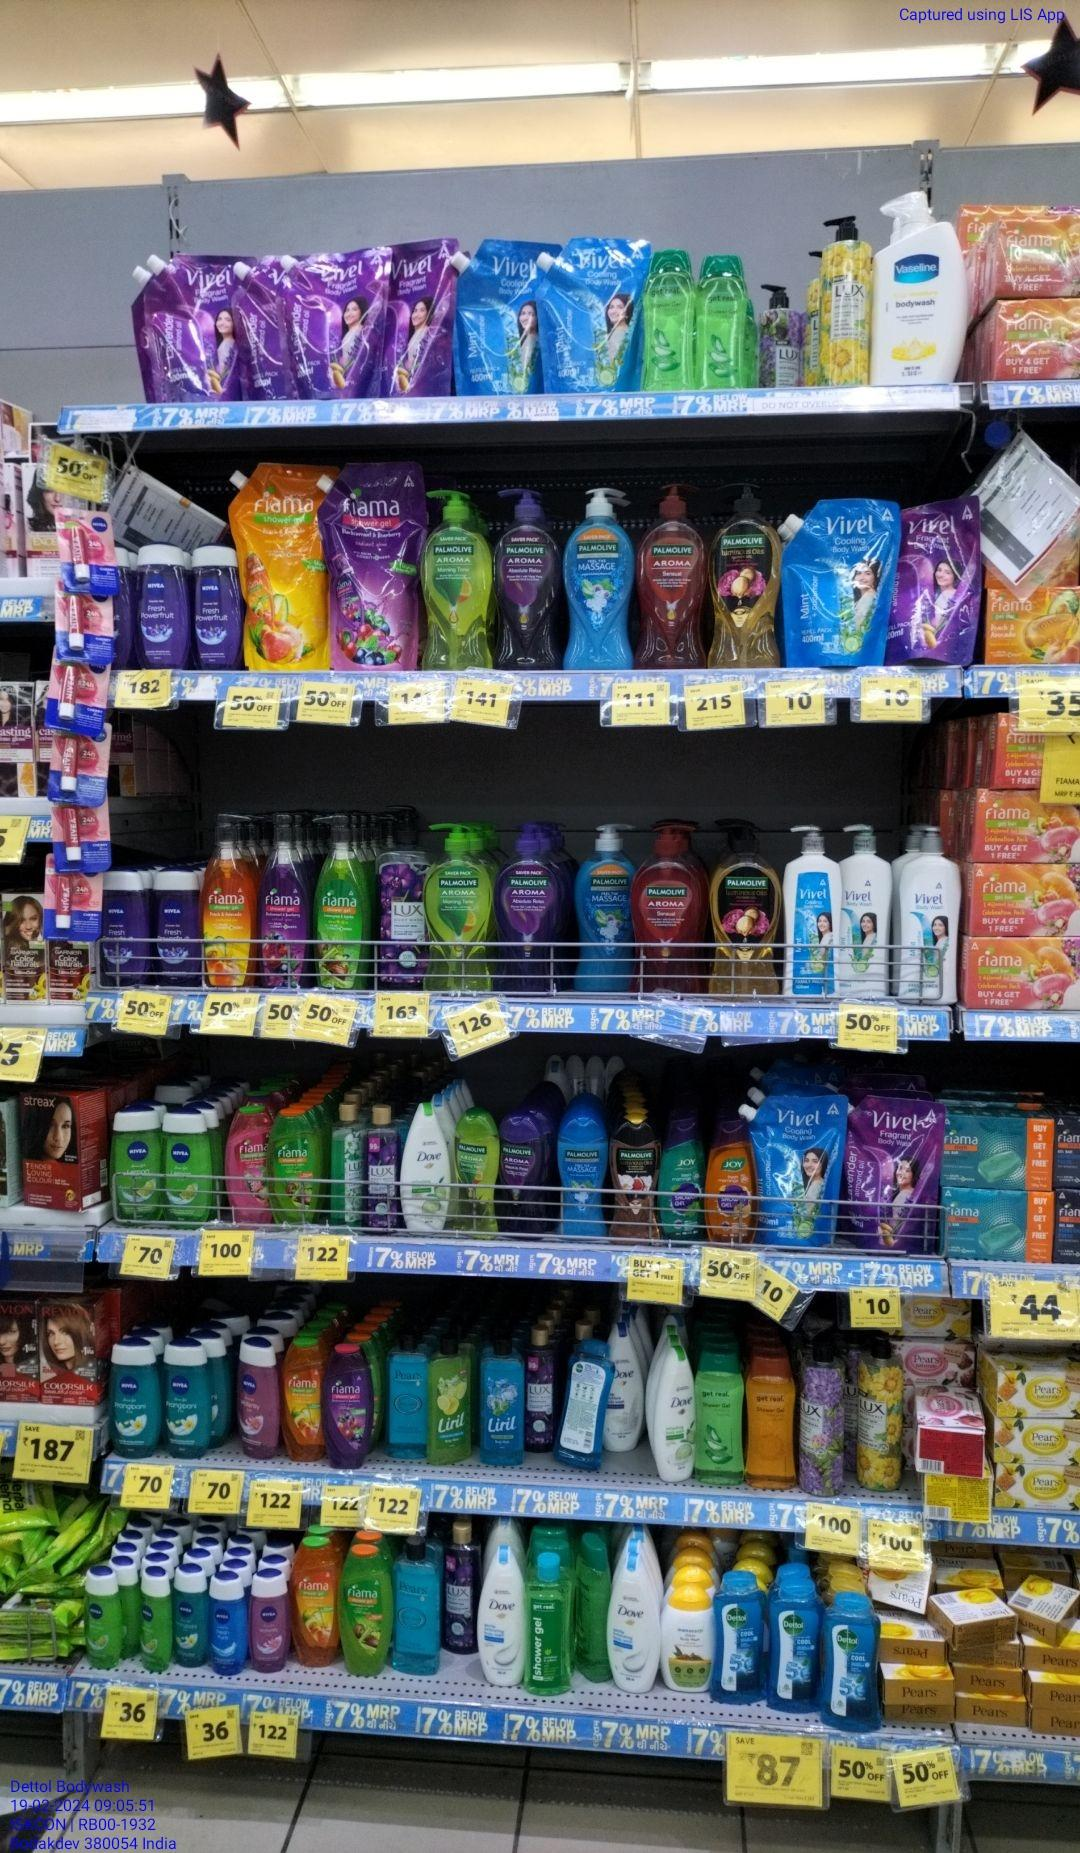Dettol_Bodywash_Cool: (823, 1592, 881, 1732), (711, 1570, 766, 1703), (769, 1581, 822, 1712)
Dove_Gentle_Exfoliating_Body_Wash_250ML: (607, 1554, 661, 1691), (481, 1545, 525, 1686)
Dove_Refreshing_Body_Wash_250ML: (400, 1103, 450, 1236)
Fiama_Shower_Gel_Lemongrass_and_Jojoba_250ML: (341, 1542, 391, 1674), (273, 1108, 321, 1223)
Fiama_Shower_Gel_Patchouli_and_Macadamia_250ML: (226, 1106, 270, 1227)
Fiama_Shower_Gel_Peach_and_Avocado_250ML: (282, 1338, 324, 1461)
Get_Real_Shower_Gel_Moisturising_Glycerin_300ML: (746, 1356, 798, 1493), (291, 1537, 337, 1668)
Joy_Shower_Gel_Mandarin_and_Lemongrass_250ML: (705, 1122, 756, 1244)
Joy_Shower_Gel_Mint_and_Eucalyptus_250ML: (663, 1119, 702, 1240)
Liril_Cooling_Mint_Body_Wash_250ML: (478, 1340, 525, 1470)
Liril_Lime_and_Tea_Tree_Oil_Body_Wash_250ML: (428, 1336, 476, 1467)
Lux_Black_Orchid_Scent_and_Juniper_Oil_Body_Wash_245ML: (444, 1515, 477, 1654), (365, 1104, 399, 1232), (528, 1325, 552, 1450)
Lux_Body_Wash_Skin_Detox_Freesia_Scent_and_Alove_Vera_245ML: (328, 1103, 361, 1223)
Nivea_Shower_Gel_Frangipani_and_Oil_250ML: (109, 1339, 162, 1458), (165, 1339, 213, 1460)
Nivea_Shower_Gel_Fresh_Powerfruit_250ML: (135, 541, 192, 669), (194, 545, 239, 669), (102, 871, 150, 986), (153, 869, 199, 986)
Nivea_Shower_Gel_Lemon_and_Oil_250ML: (112, 1103, 162, 1223), (165, 1106, 215, 1223)
Nivea_Shower_Gel_Waterlily_and_Oil_250ML: (238, 1336, 279, 1460)
Palmolive_Aroma_Moments_Feel_The_Massage_Shower_Gel_250ML: (552, 1108, 607, 1243)
Palmolive_Aroma_Morning_Tonic_Shower_Gel_250ML: (450, 1108, 496, 1241)
Palmolive_Aroma_Relax_250ML: (500, 1115, 543, 1237)
Palmolive_Luminous_Oils_With_White_Orchid_Shower_Gel_250ML: (608, 1114, 662, 1243)
Pears_Pure_Glycerin_and_Mint_Extracts_Body_Wash_250ML: (392, 1536, 442, 1677), (384, 1336, 426, 1460)
